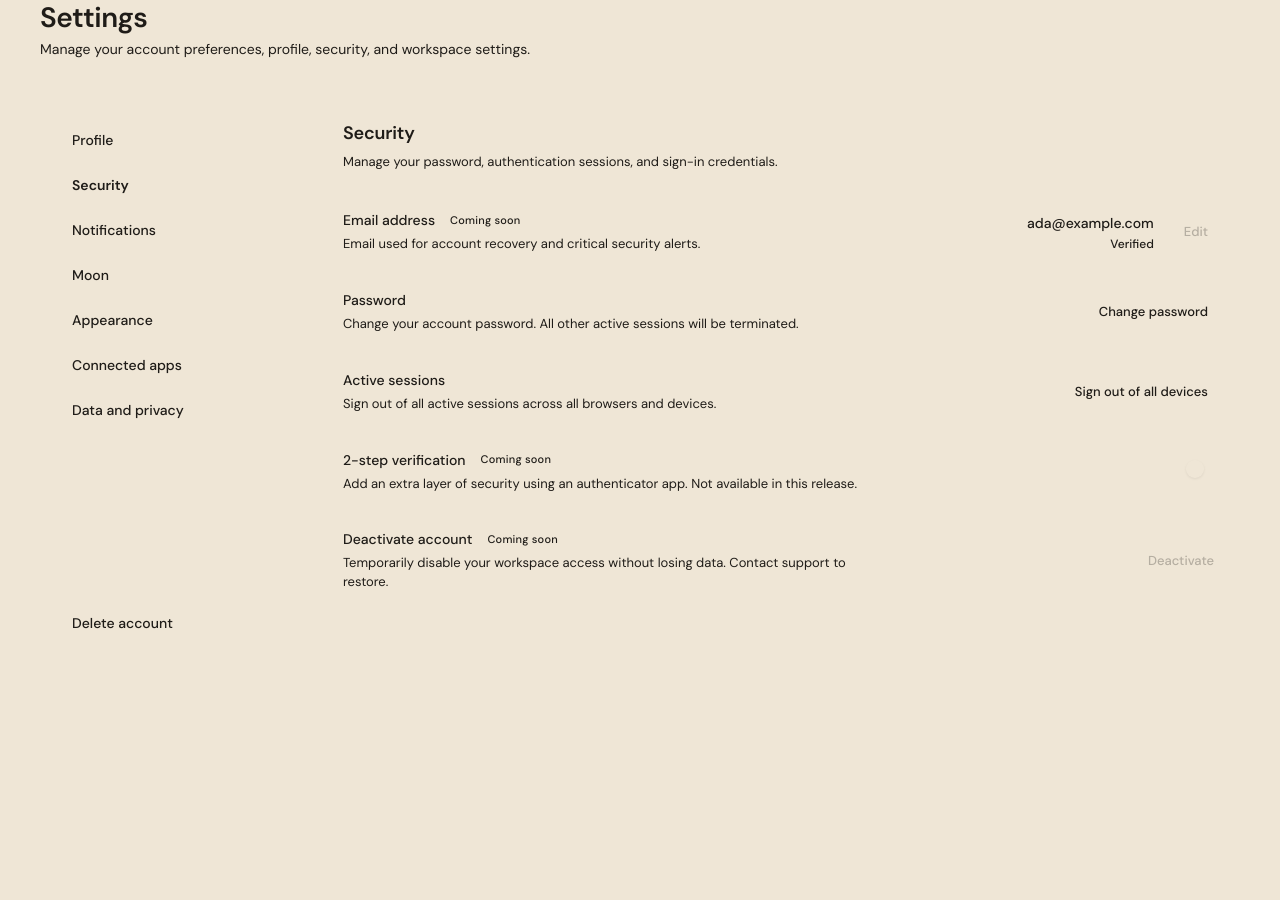
Test: Settings Hub — Phase 1 › Change Password Modal › opens accessible modal when clicking Change password
The image size is (1280, 900).
Step 1. Click the button "Change password" → (1153, 312), box [1085,296,1222,328]
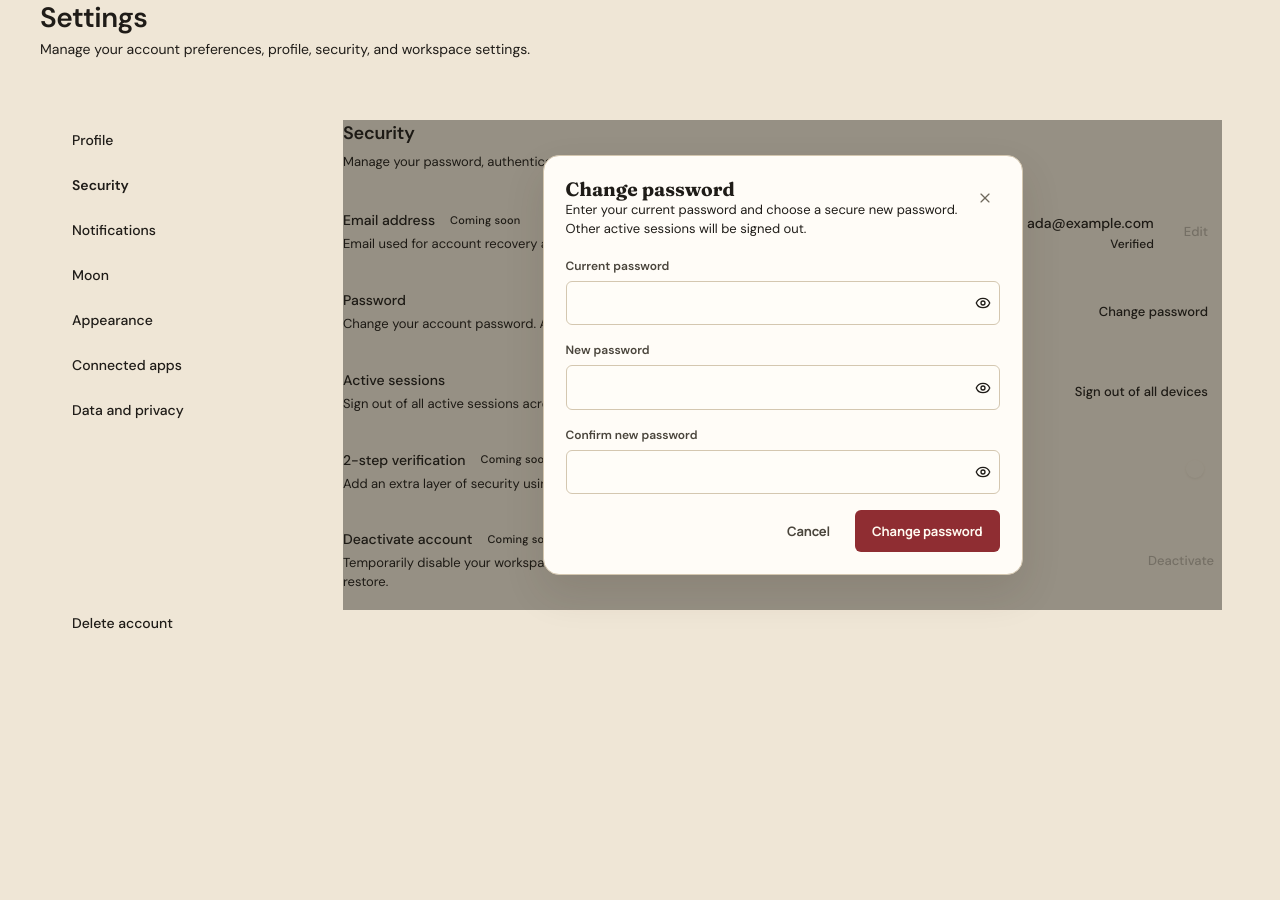
Check: the dialog is shown, box [542,155,1022,575]
Check: the heading "Change password" is shown, box [566,177,735,201]
Check: the password field labelled "Current password" is shown, box [566,282,968,324]
